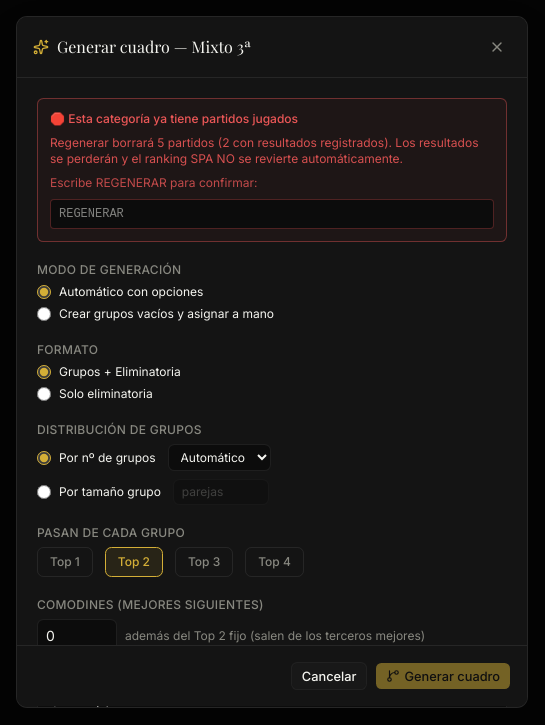
Test: GenerateBracketDialog › Bloque 2 — empty states + read-only + REGENERAR › REGENERAR es case-insensitive y permite espacios alrededor
The image size is (545, 725).
Type "  regenerar  " into the field with placeholder "REGENERAR" at (272, 214), box 50,199 -> 494,229
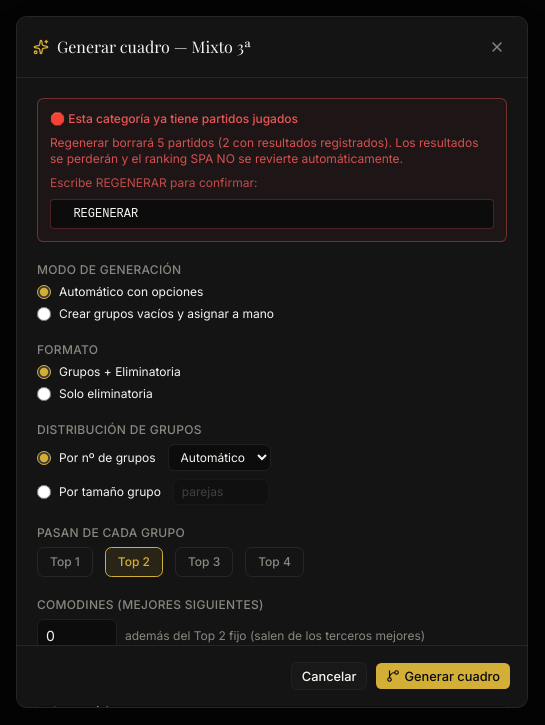
Expected: the button "Generar cuadro" is enabled, 376,663 -> 511,691
